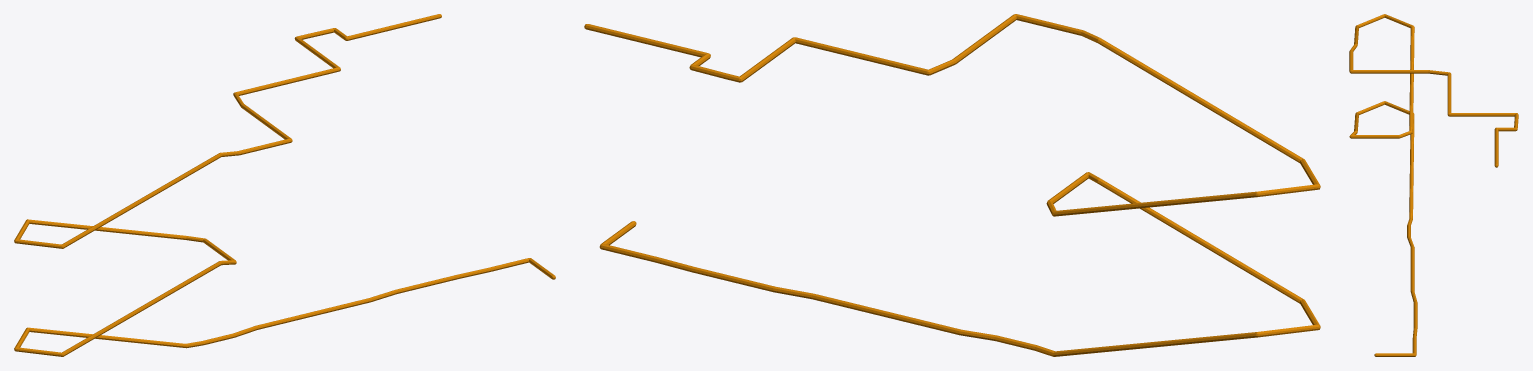
The picture shows the model from 3 angles, left to right: view 1: azimuth 30°, elevation 25°; view 2: azimuth 150°, elevation 25°; view 3: azimuth 270°, elevation 25°; orthographic projection. The views are drawn at different scales.
Size of the model in its own units: 2595 by 1020 by 881.
